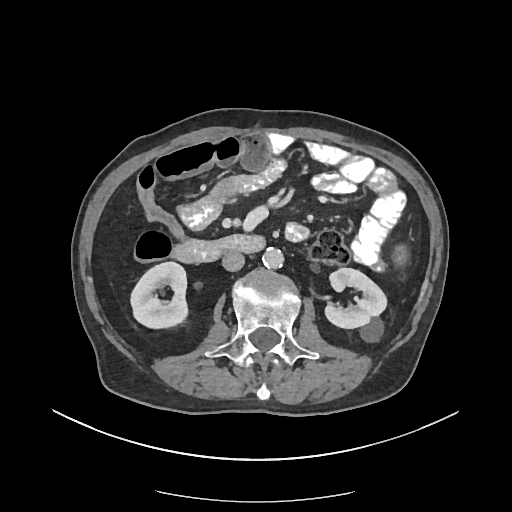Lesion: (356, 311, 387, 346)
